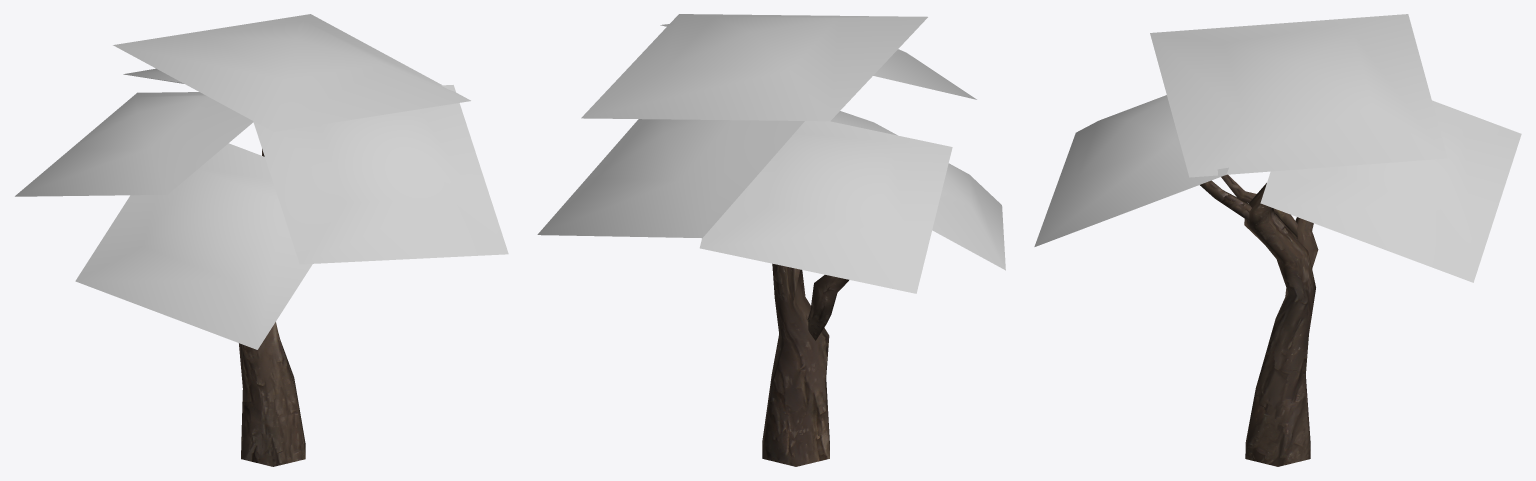
The model's file is Tree_4.FBX.
3 renders of one model, left to right at view 1: azimuth 30°, elevation 25°; view 2: azimuth 150°, elevation 25°; view 3: azimuth 270°, elevation 25°, orthographic. The views are drawn at different scales.
Parts seen in each view (by area): view 1: Object009, polySurface315; view 2: Object009, polySurface315; view 3: Object009, polySurface315.
Boxes of the visible parts, x1=… form: Object009: x1=15, y1=14, x2=508, y2=349; polySurface315: x1=239, y1=149, x2=305, y2=466; Object009: x1=537, y1=14, x2=1005, y2=293; polySurface315: x1=762, y1=263, x2=848, y2=466; Object009: x1=1034, y1=14, x2=1521, y2=282; polySurface315: x1=1200, y1=174, x2=1318, y2=466.
Size of the model in its own units: 143 by 153 by 168.
